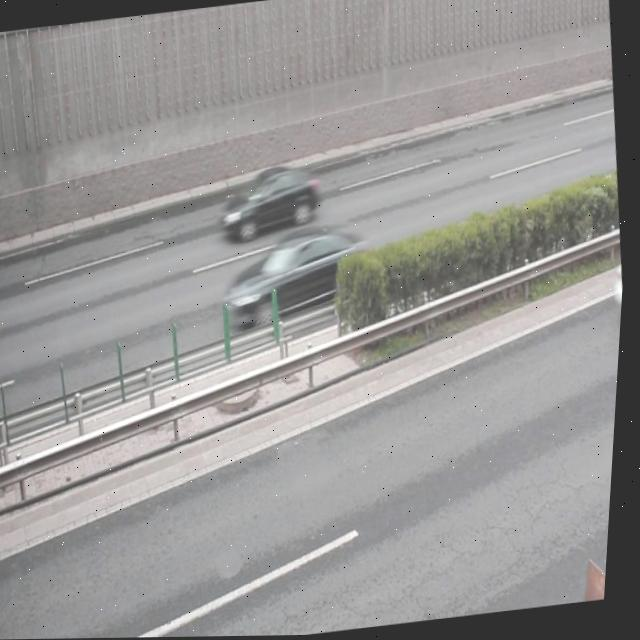car: (219, 218, 379, 332), (217, 160, 327, 242)
